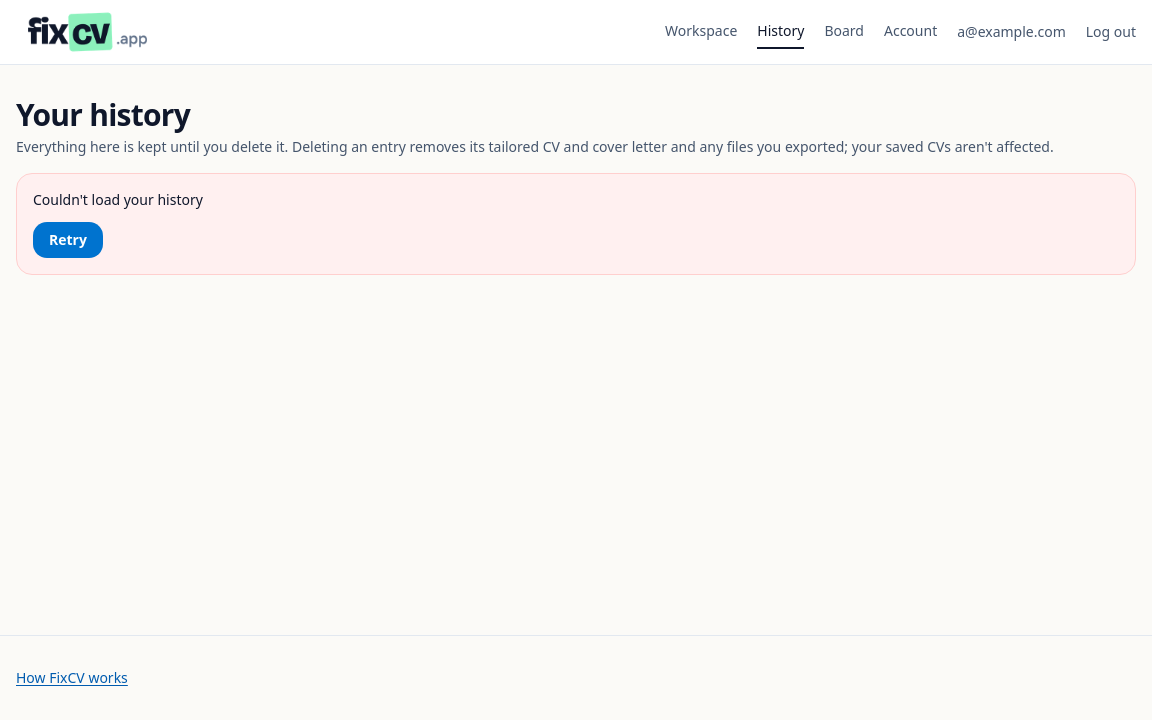
Scenario: HistoryPage — states (AC-44) › error: "Couldn't load your history" with Retry, never the empty state; Retry asks again
Expected: the message shows "Couldn't load your history", [33,190,203,209]
Click the button "Retry": (68, 240) [33,222,103,258]
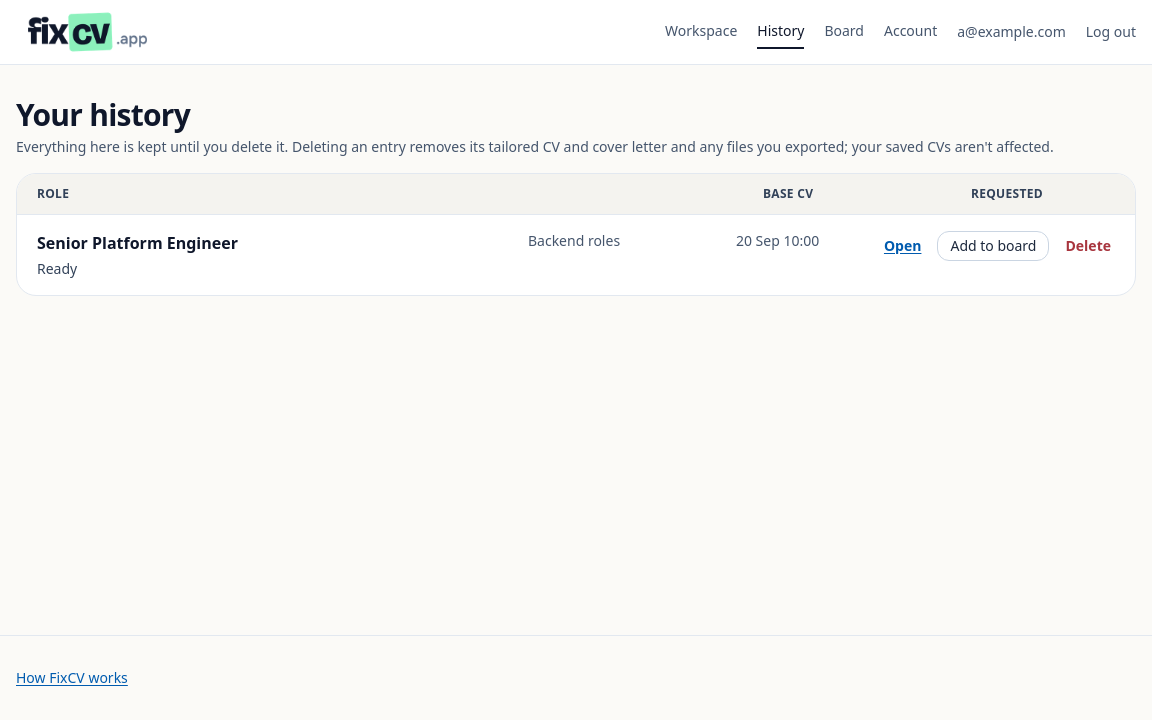
Result: the text "Senior Platform Engineer" is shown at [37,231,238,255]
